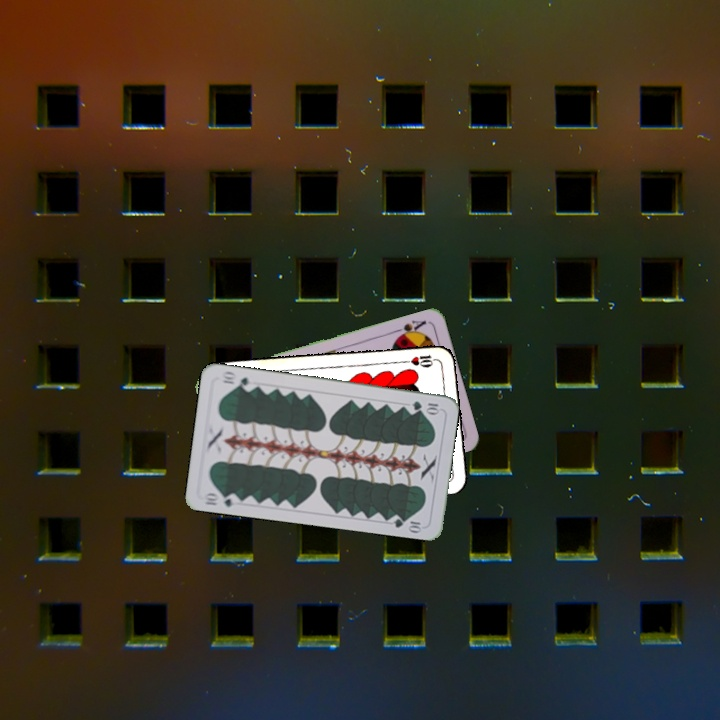G10: (200, 488, 241, 509), (408, 397, 442, 415)
H10: (400, 351, 441, 370)
SA: (390, 316, 429, 341)
